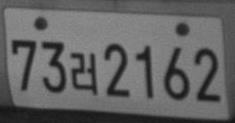1: (133, 45, 160, 98)
2: (194, 47, 221, 102), (103, 43, 129, 97)
3: (41, 40, 66, 93)
6: (164, 46, 190, 100)
7: (11, 39, 36, 91)
러: (69, 51, 97, 95)
